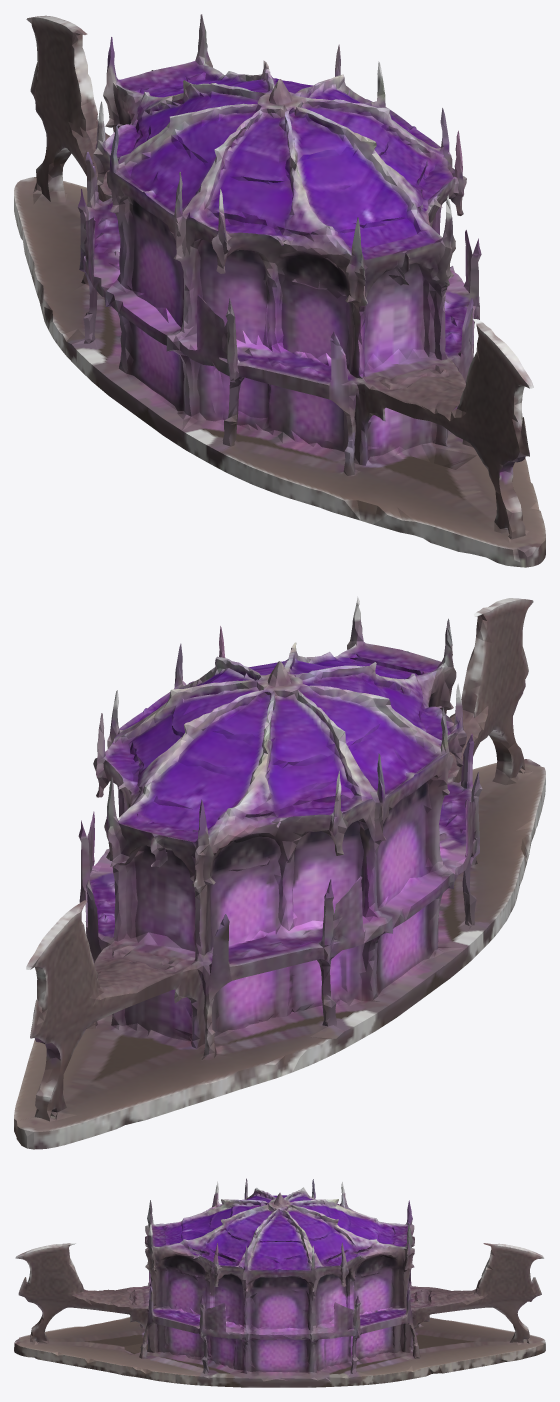
File: nightelf_tower.glb
The picture shows the model from 3 angles, top to bottom: view 1: azimuth 30°, elevation 25°; view 2: azimuth 150°, elevation 25°; view 3: azimuth 270°, elevation 25°; orthographic projection. The views are drawn at different scales.
Visible parts, largest first — view 1: NightElf_Tower; view 2: NightElf_Tower; view 3: NightElf_Tower.
Boxes of the visible parts, x1,y1,x2,y2 form: NightElf_Tower: [14, 14, 545, 567]; NightElf_Tower: [14, 596, 545, 1149]; NightElf_Tower: [14, 1178, 545, 1387].
Bounding box in the file's own units: 1.55 × 1.56 × 4.73.
Materials: 1 (1 with a texture image).
